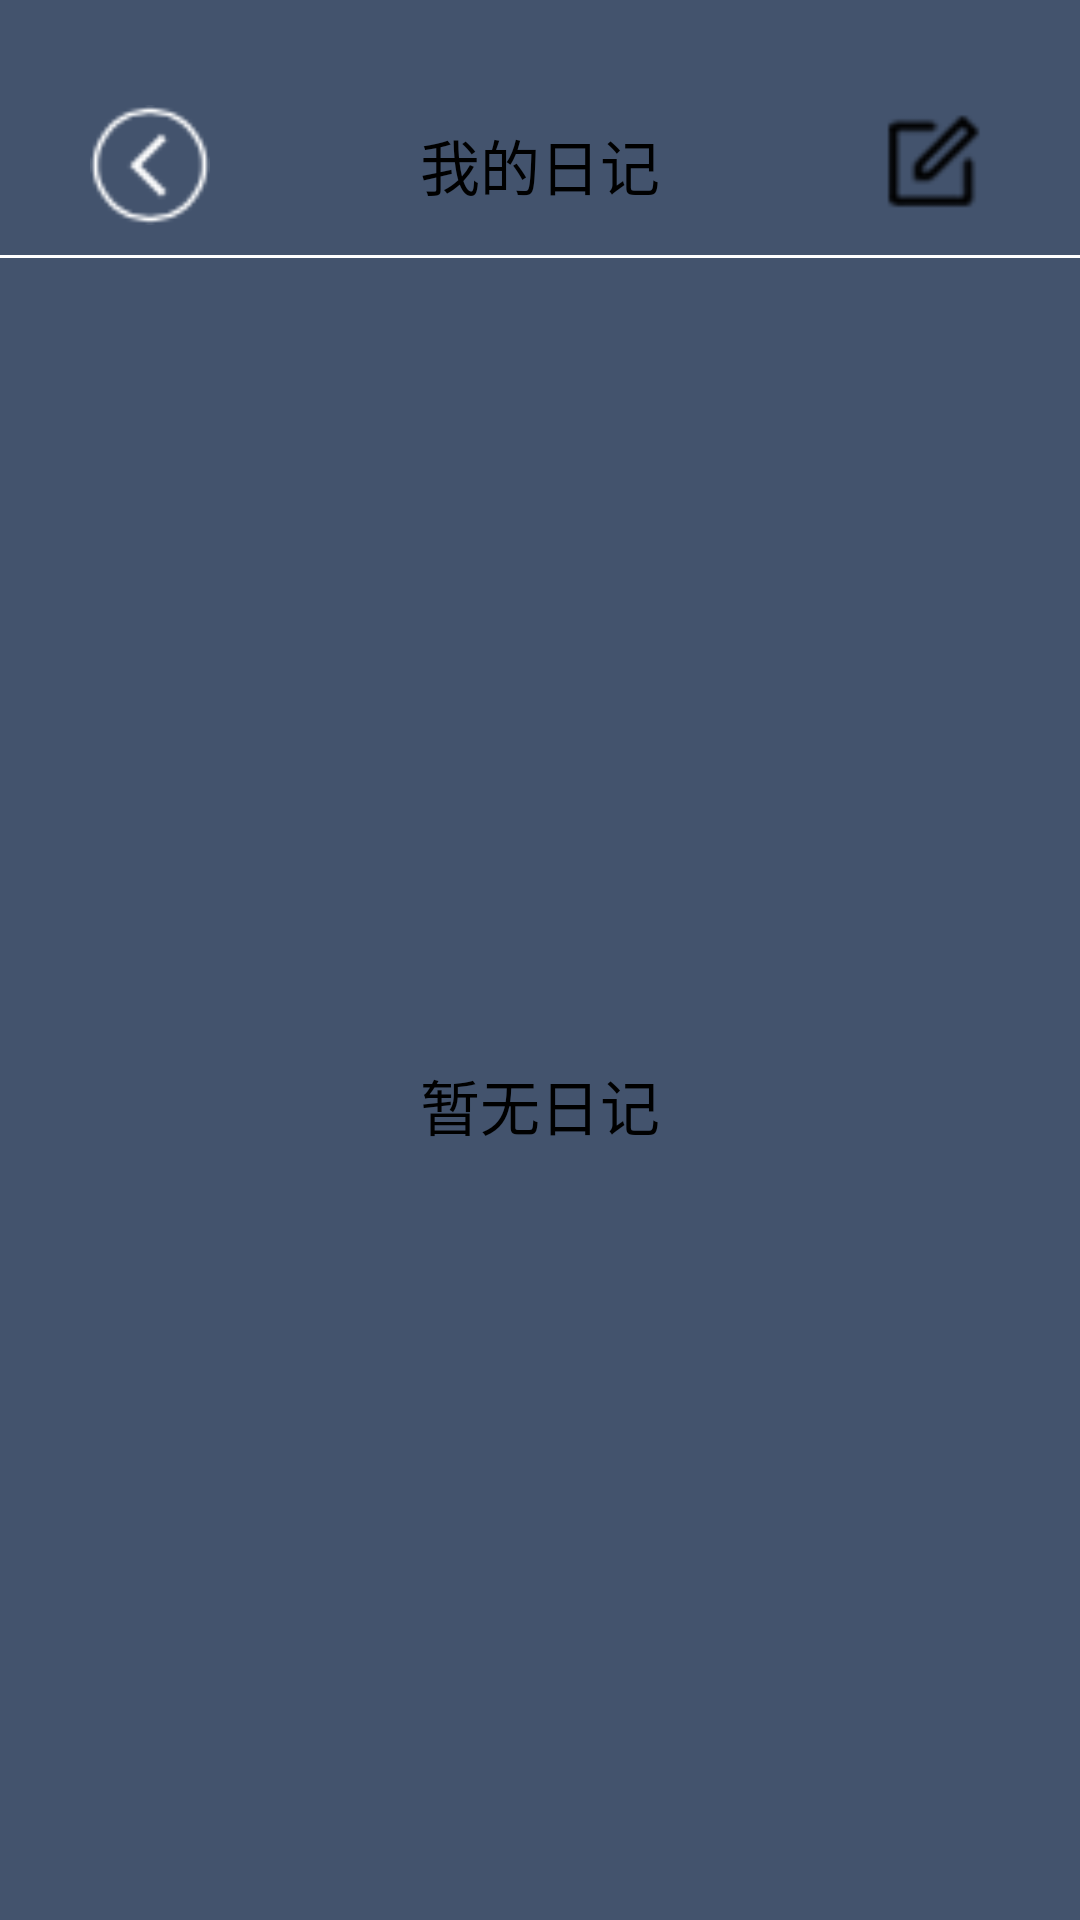

Named icons in this screenshot (1080 x 1920) and their centers, point (x, y):
return: point (150, 165)
